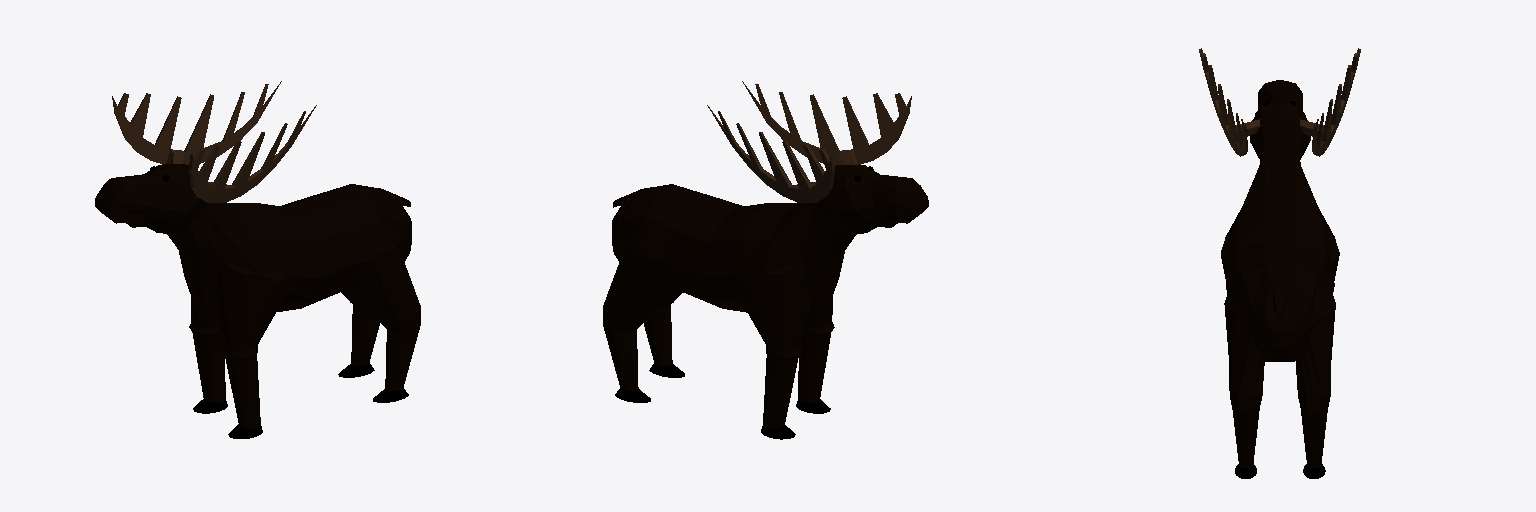
Rendered from Moose.obj.
3 renders of one model, left to right at view 1: azimuth 30°, elevation 25°; view 2: azimuth 150°, elevation 25°; view 3: azimuth 270°, elevation 25°, orthographic.
Parts seen in each view (by area): view 1: Plane, Plane.001_Plane.002, Plane.002_Plane.003; view 2: Plane, Plane.002_Plane.003, Plane.001_Plane.002; view 3: Plane, Plane.002_Plane.003, Plane.001_Plane.002.
Boxes of the visible parts, <box> form: Plane: <box>95,164,420,438</box>; Plane.001_Plane.002: <box>112,81,281,164</box>; Plane.002_Plane.003: <box>189,105,316,203</box>; Plane: <box>603,164,928,439</box>; Plane.002_Plane.003: <box>742,81,911,165</box>; Plane.001_Plane.002: <box>707,105,834,203</box>; Plane: <box>1221,80,1339,478</box>; Plane.002_Plane.003: <box>1199,48,1260,156</box>; Plane.001_Plane.002: <box>1300,48,1360,156</box>.
Bounding box in the file's own units: 4.38 × 4.3 × 2.01.